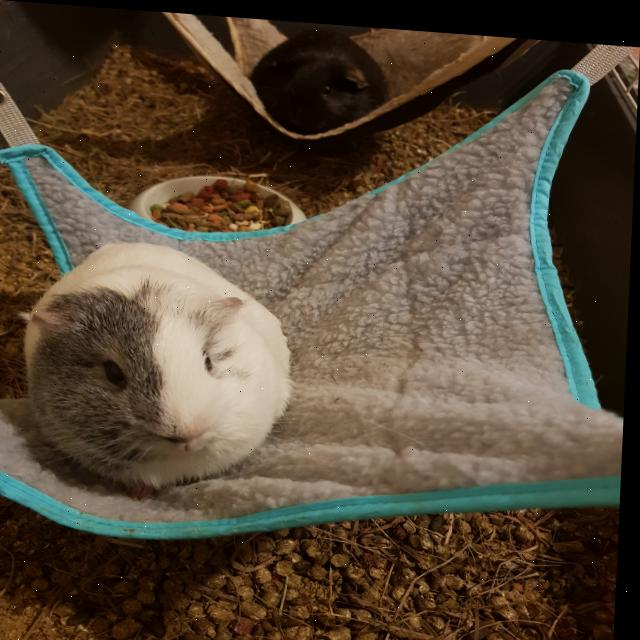guinea pig: (9, 229, 302, 507), (244, 17, 394, 141)
